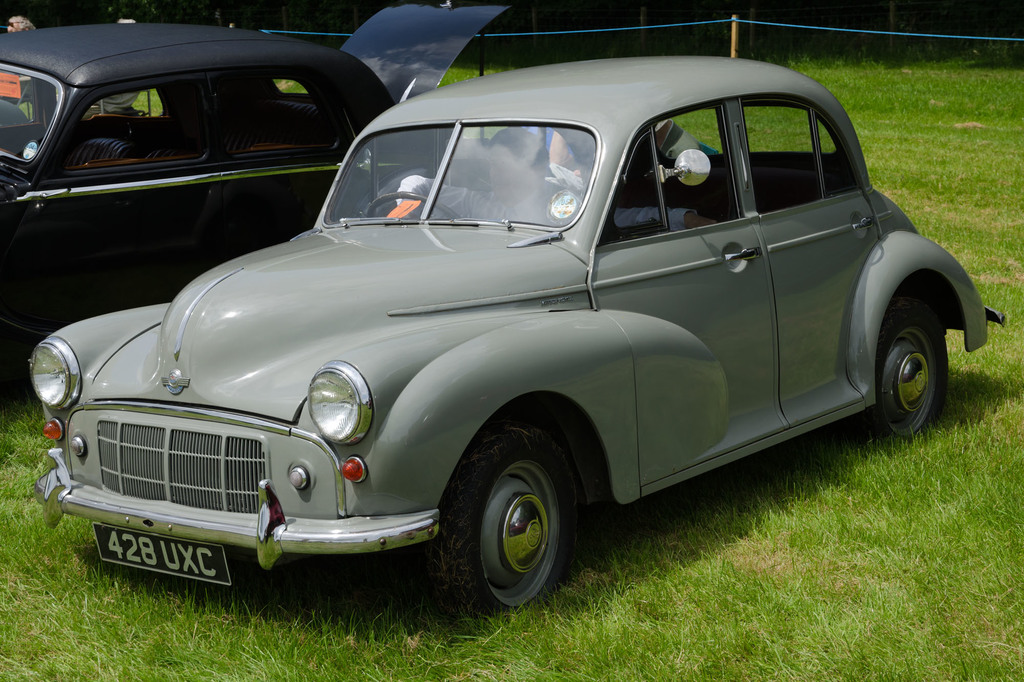Car: (26, 55, 1006, 628), (0, 0, 510, 401)
